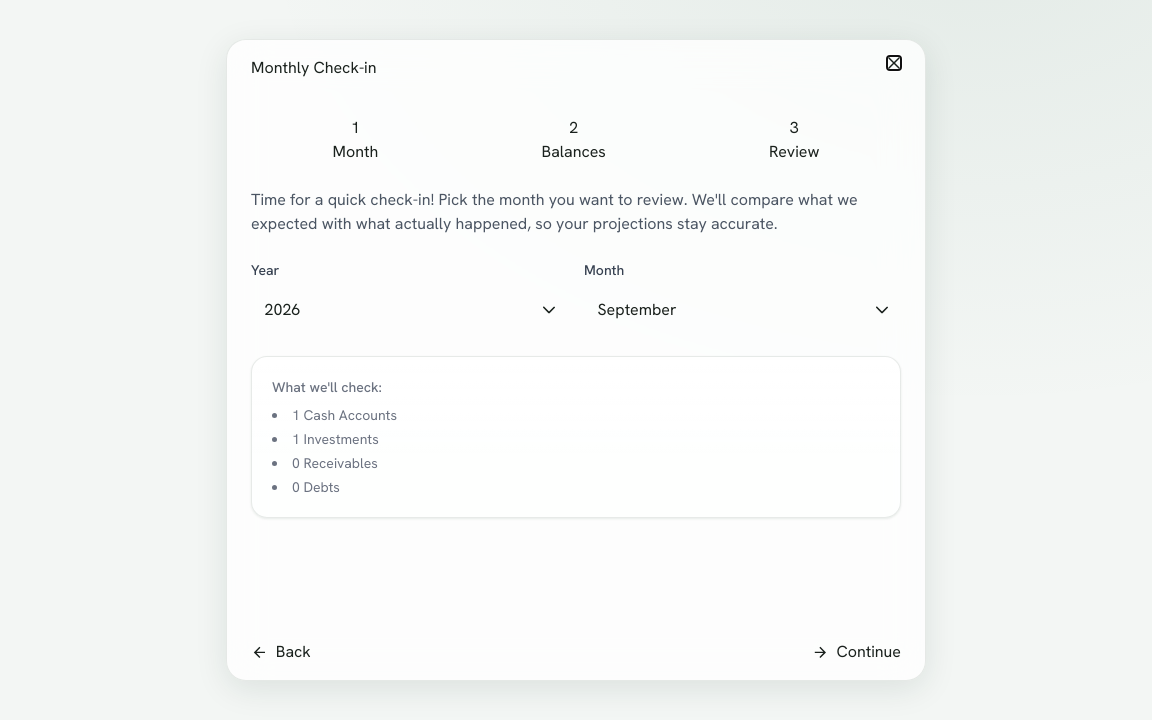
it: ReconcileWizard › advances through balances to the review step with a confirm affordance
Check: the text "Time for a quick check-in" is shown, box x1=251 y1=189 x2=858 y2=234
Note: Step 1 → 2: starts the reconciliation session
Click the button "Continue" at (856, 652), box x1=812 y1=640 x2=901 y2=664
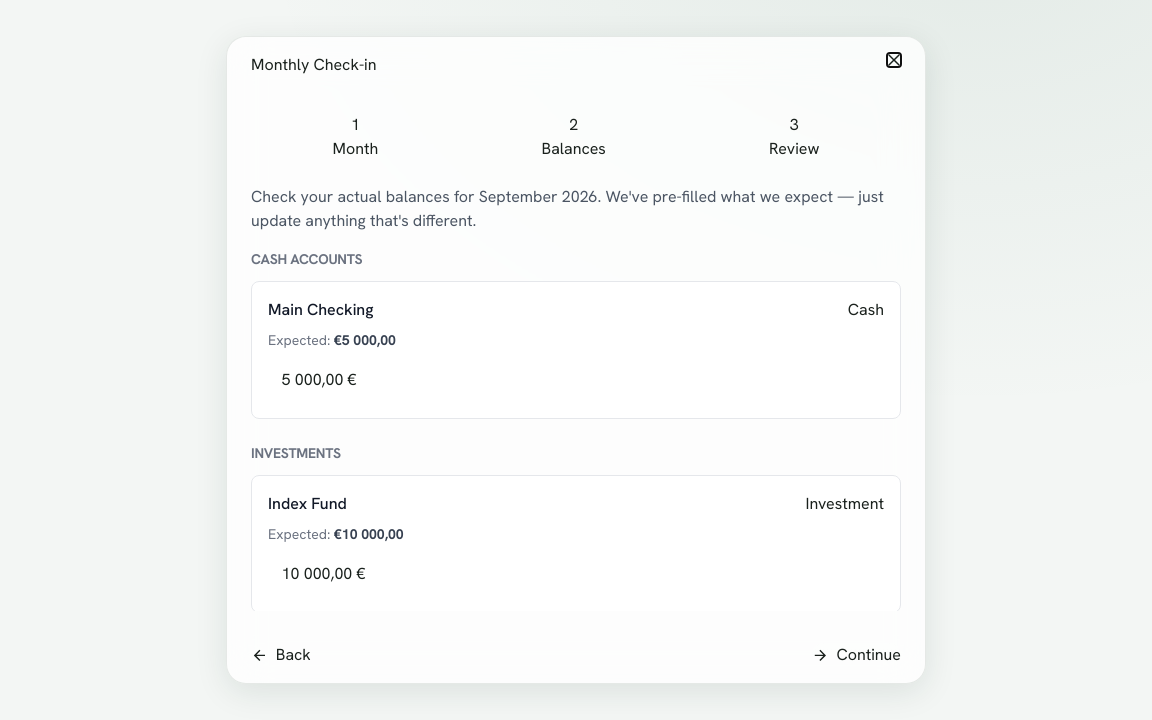
Check: the text "Check your actual balances for" is shown, box x1=251 y1=186 x2=479 y2=207
Check: the text "Main Checking" is shown, box x1=268 y1=298 x2=374 y2=322
Check: the text "Index Fund" is shown, box x1=268 y1=492 x2=347 y2=516
Note: Step 2 → 3: review & confirm
Click the button "Continue" at (856, 655), box x1=812 y1=643 x2=901 y2=667
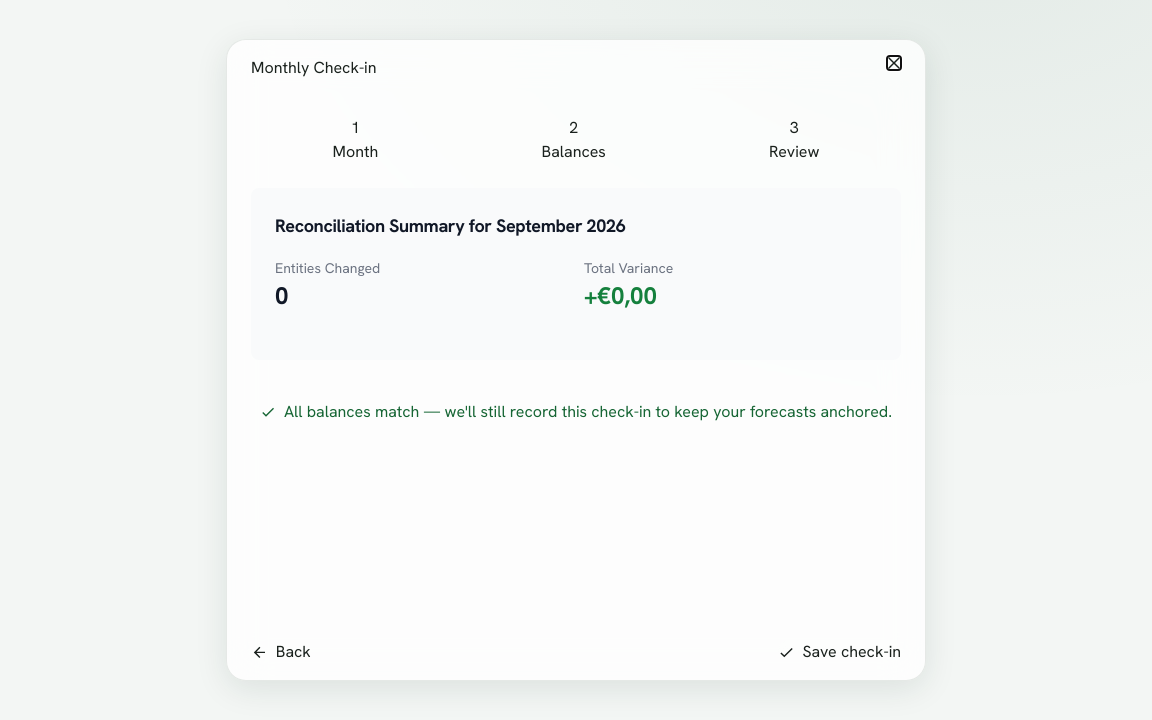
Check: the heading "Reconciliation Summary for September 2026" is shown, box x1=275 y1=214 x2=625 y2=237
Check: the text "All balances match" is shown, box x1=284 y1=401 x2=892 y2=422
Check: the button "Save check-in" is shown, box x1=778 y1=640 x2=901 y2=664
Note: Back returns to the balances step
Click the button "Back" at (281, 652), box x1=251 y1=640 x2=311 y2=664
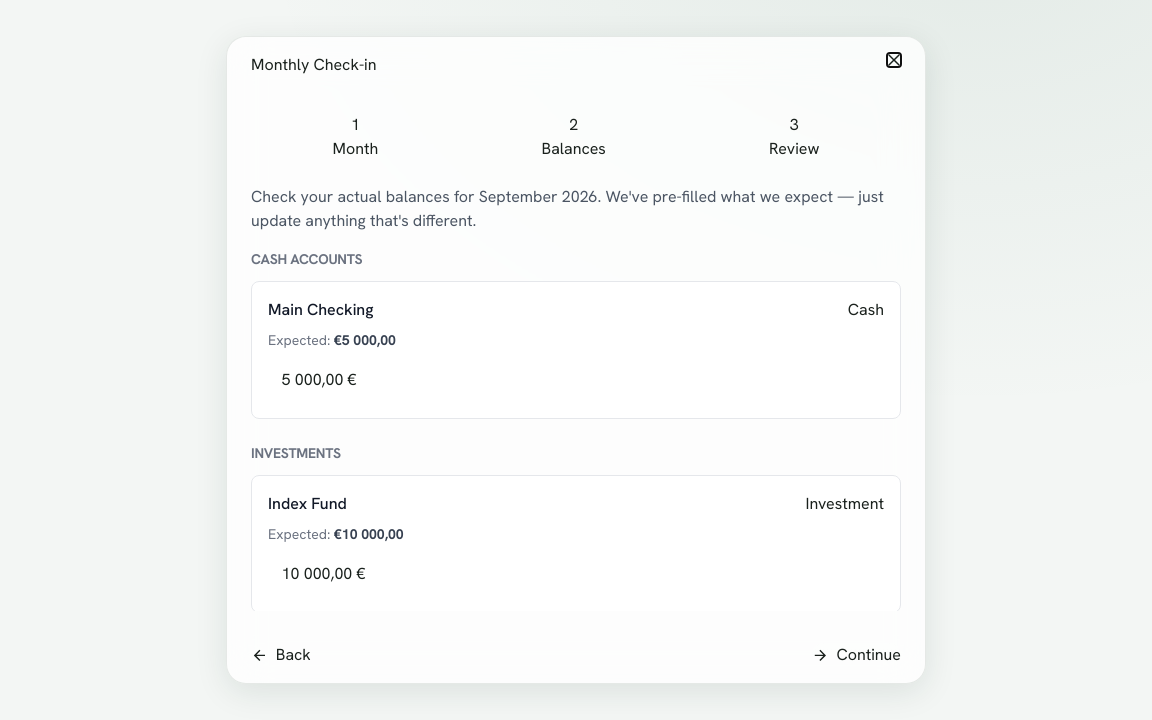
Check: the text "Check your actual balances for" is shown, box x1=251 y1=186 x2=479 y2=207
